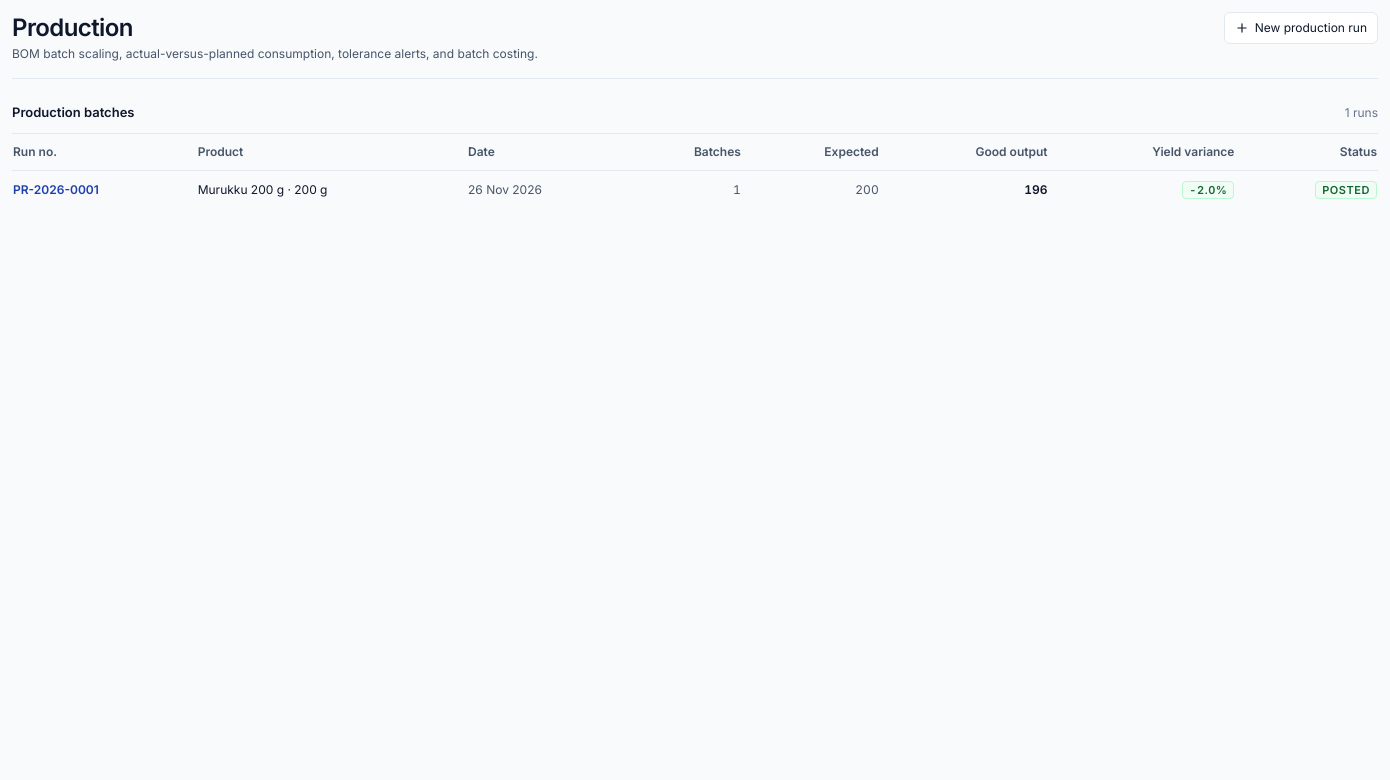
Test: ProductionOperationsPage › renders the run list and the posted result cost sheet
Expected: the text "Murukku 200 g · 200 g" is shown, [186, 170, 456, 209]
Expected: the text "POSTED" is shown, [1322, 182, 1370, 198]
What coordinates should you click on to do the following:
click the text "PR-2026-0001"
I would click on:
 (99, 190)
Its box is [12, 170, 186, 209].
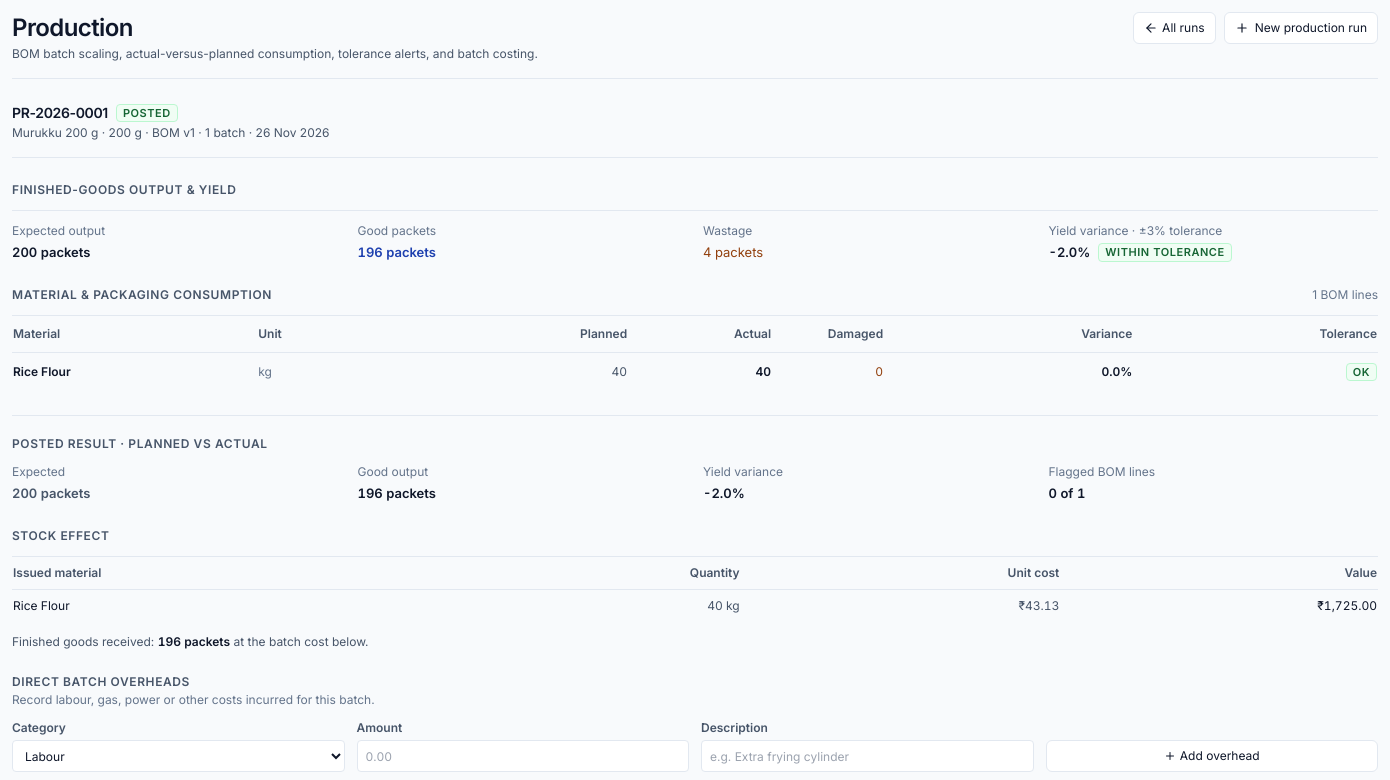
Now the table with test id "production-lines-table" is shown, box [12, 316, 1378, 391]
Now the text "Rice Flour" in the row of "0.0%" is shown, box [13, 364, 71, 379]
Now the heading "Stock effect" is shown, box [12, 528, 109, 543]
